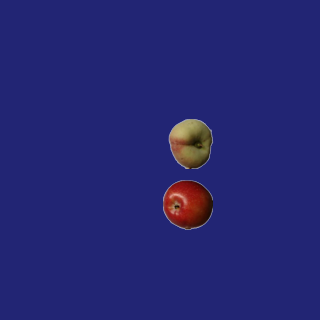Apple Braeburn: (162, 179, 212, 229)
Peach Flat: (165, 118, 215, 168)
